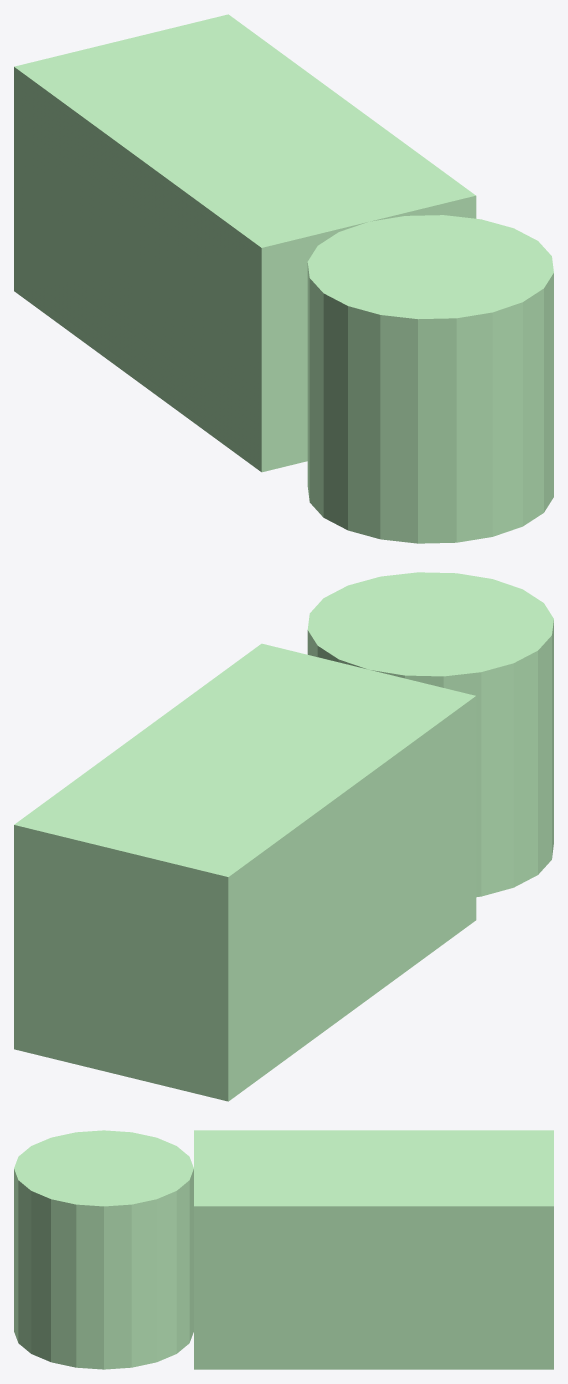
File: RLEG_LINK4_mesh.dae
The picture shows the model from 3 angles, top to bottom: view 1: azimuth 30°, elevation 25°; view 2: azimuth 150°, elevation 25°; view 3: azimuth 270°, elevation 25°; orthographic projection. The views are drawn at different scales.
Parts seen in each view (by area): view 1: RLEG_LINK4 (×2); view 2: RLEG_LINK4 (×2); view 3: RLEG_LINK4 (×2).
Boxes of the visible parts, x1,y1,x2,y2 form: RLEG_LINK4 (×2): (14,14,553,543); RLEG_LINK4 (×2): (14,572,553,1101); RLEG_LINK4 (×2): (14,1130,553,1369).
Bounding box in the file's own units: 0.1 × 0.1 × 0.3.
